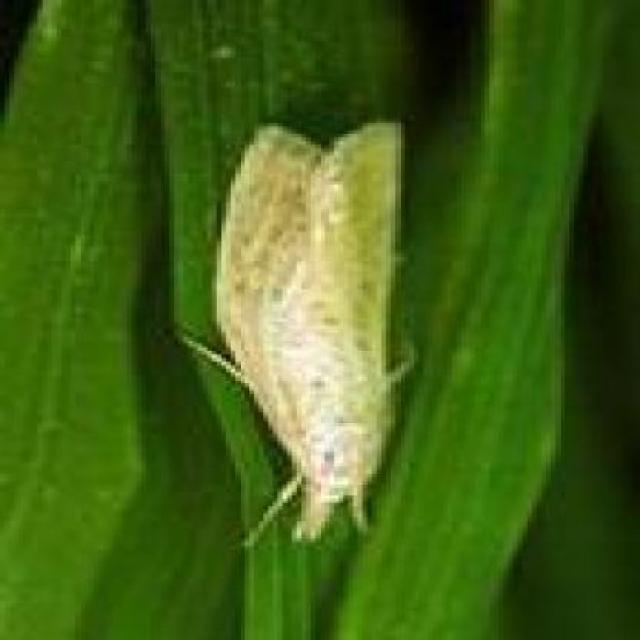stem-borer: (180, 120, 418, 548)
